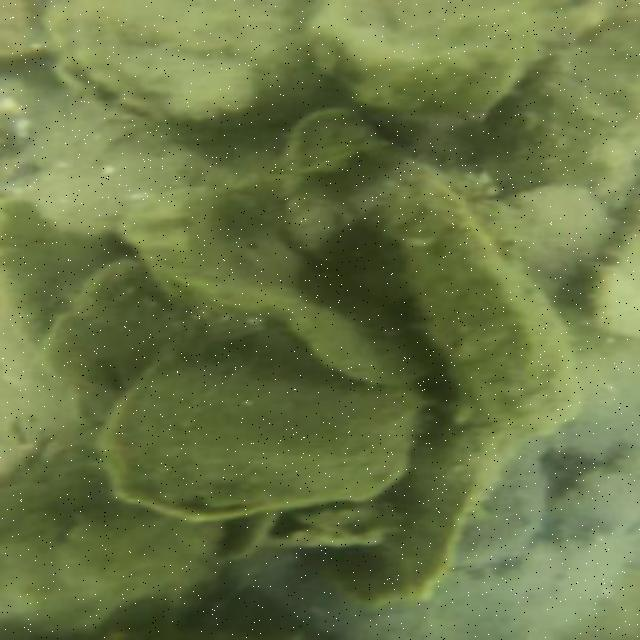Oyster-Closed: (92, 173, 441, 378), (98, 326, 424, 516), (392, 168, 580, 442), (308, 422, 526, 609), (44, 3, 329, 140), (316, 2, 601, 129), (280, 106, 436, 309), (489, 180, 620, 305)
